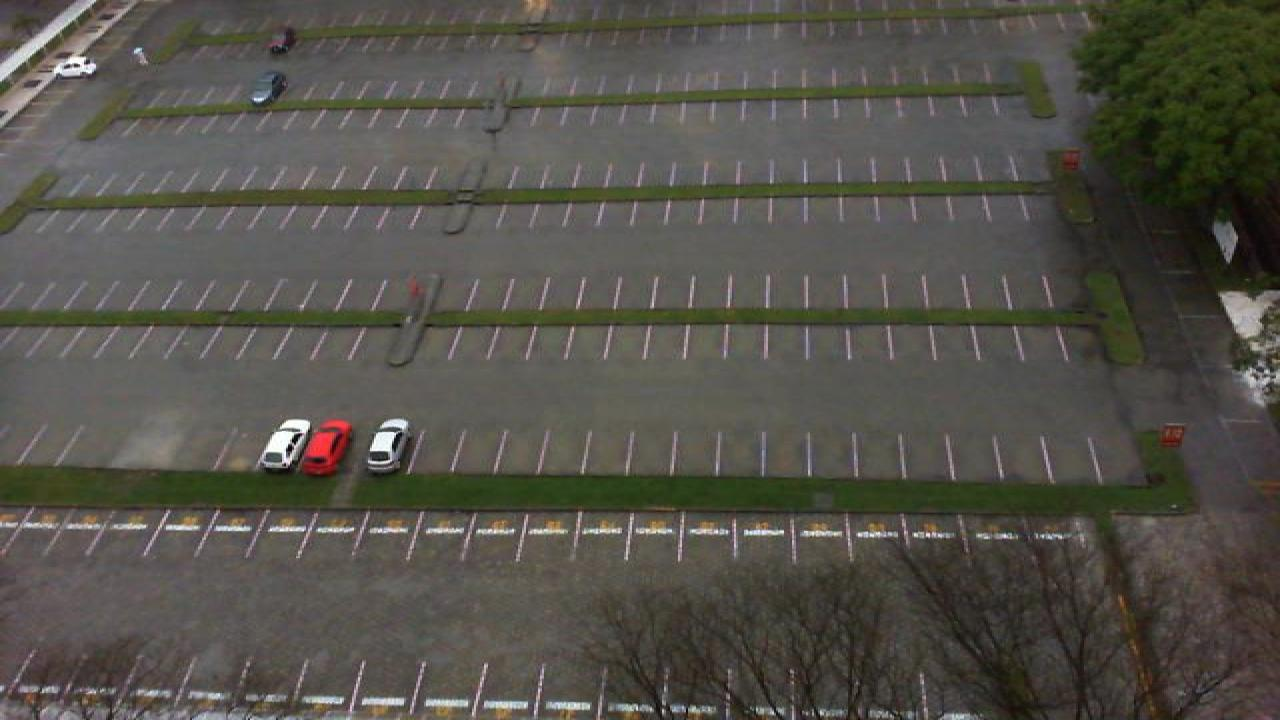Car: (256, 418, 312, 472), (300, 420, 352, 477), (364, 418, 412, 474), (250, 72, 288, 106), (54, 54, 98, 79), (268, 26, 298, 55)
